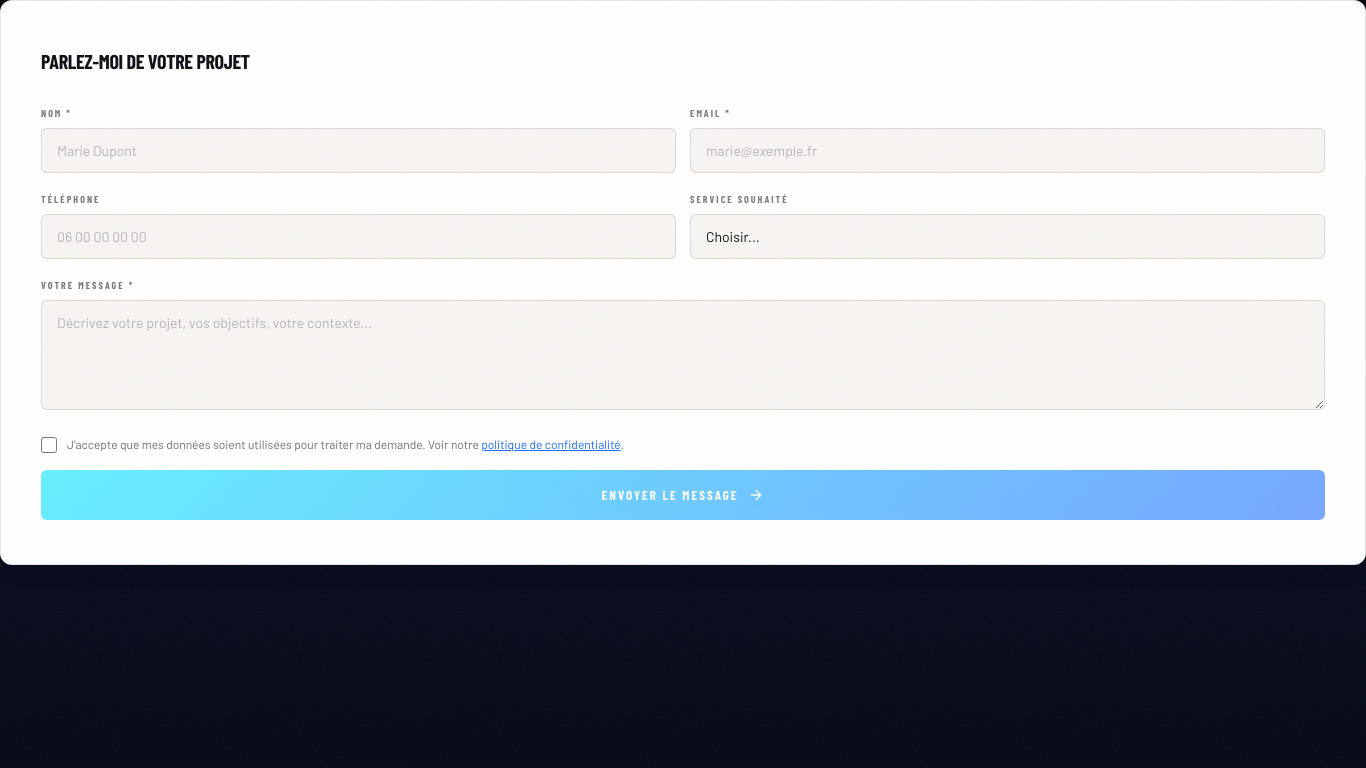
it: ContactForm › affiche une erreur réseau si fetch échoue
Click the checkbox: (49, 445) [41,437,57,453]
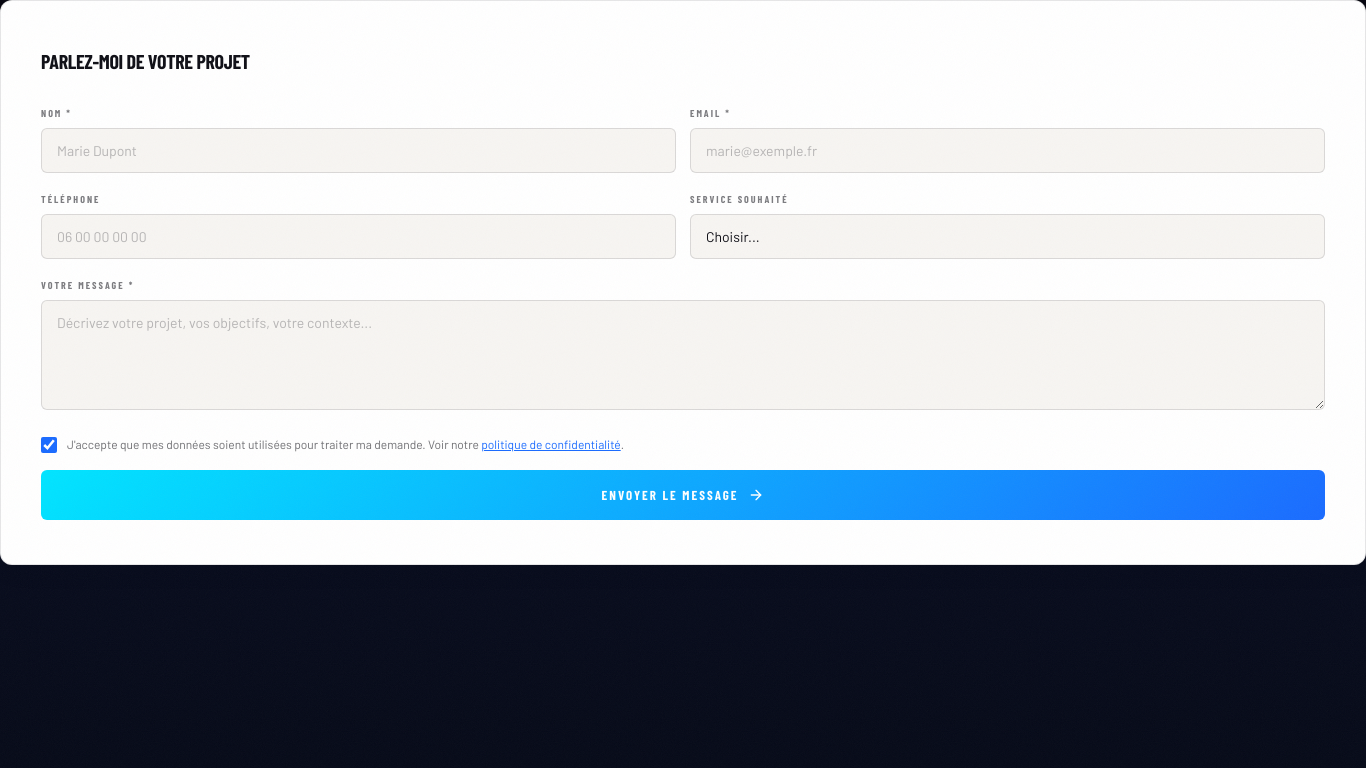
Click the button "Envoyer le message": (683, 495) [41,470,1325,520]
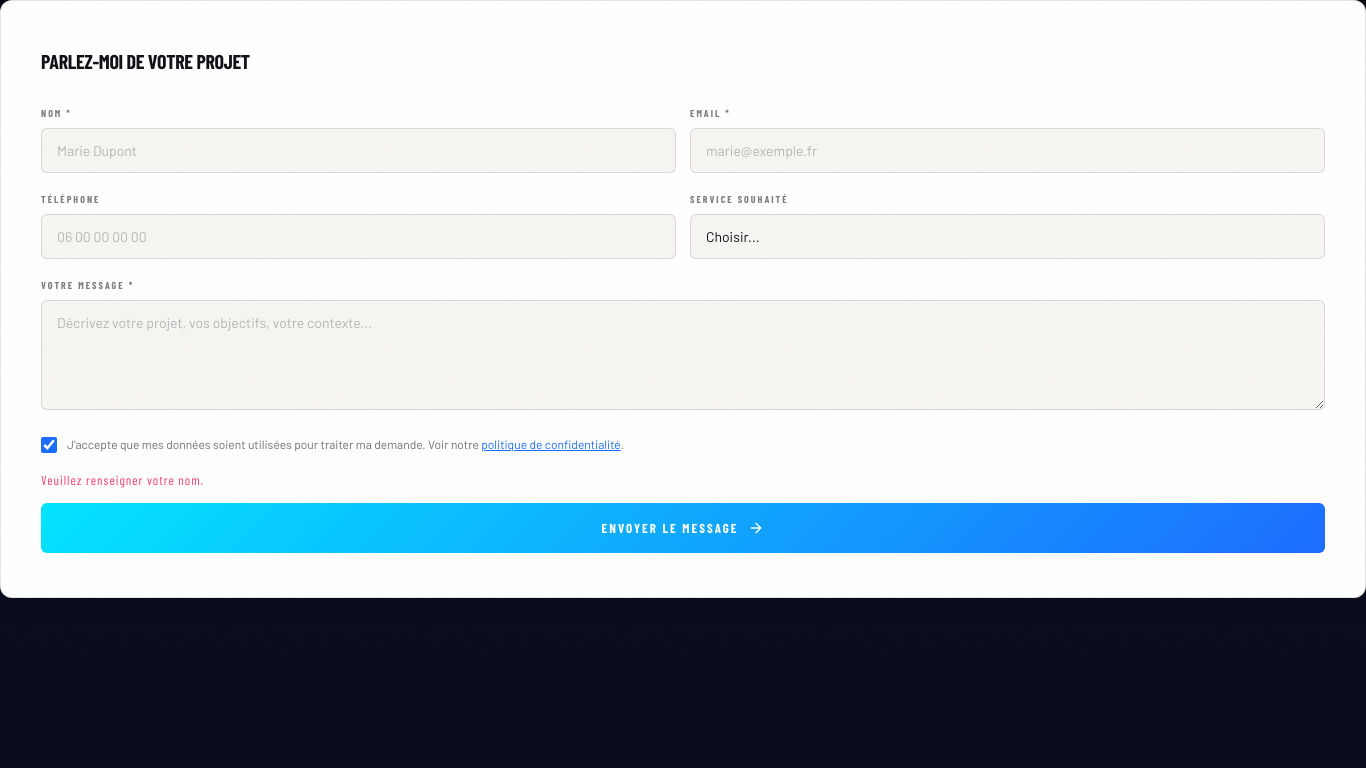
Result: the message "Veuillez renseigner votre nom." is shown at [41,472,204,488]
